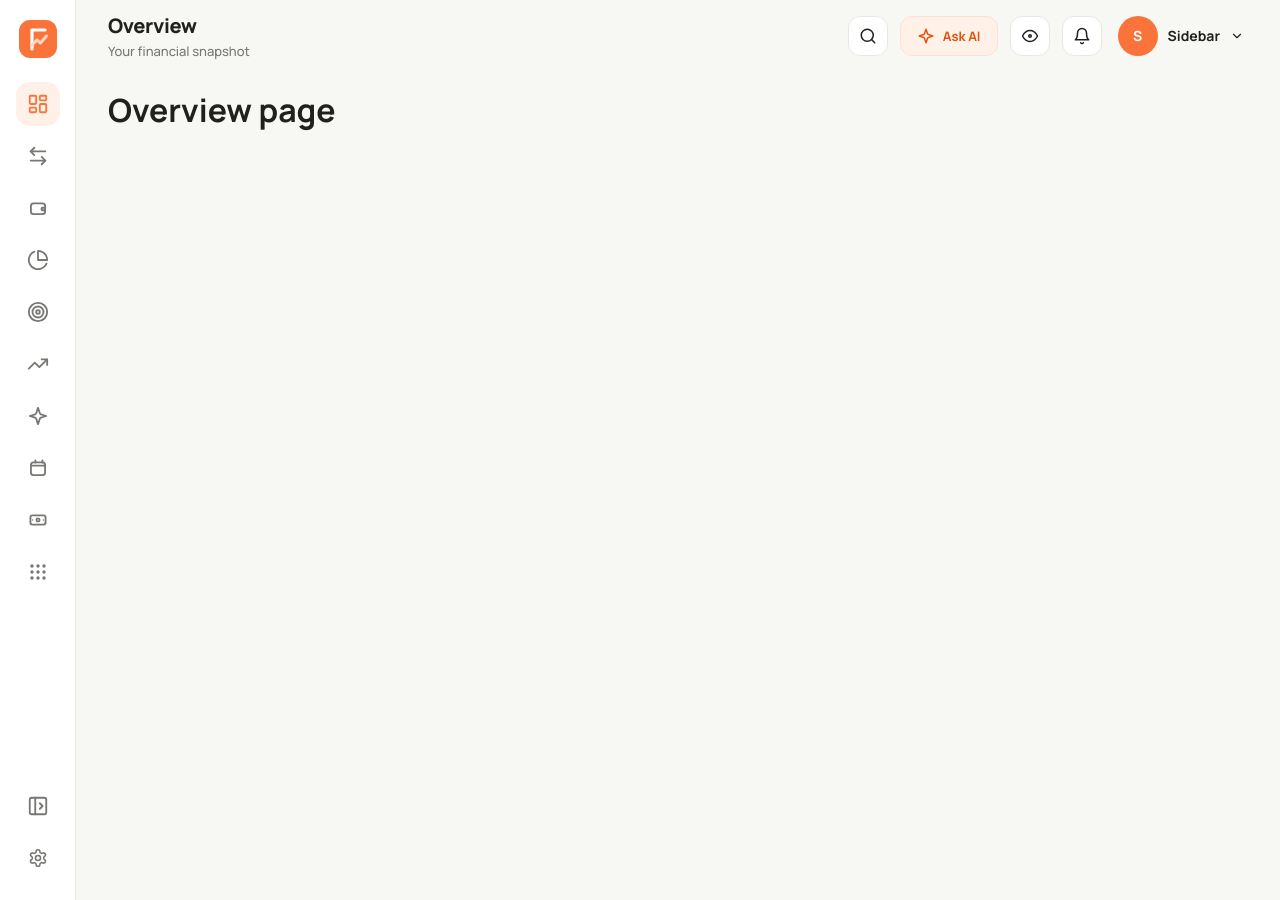
keeps working if storage access is blocked
Click the button named "Expand sidebar".
click(38, 806)  # box [16, 784, 60, 828]
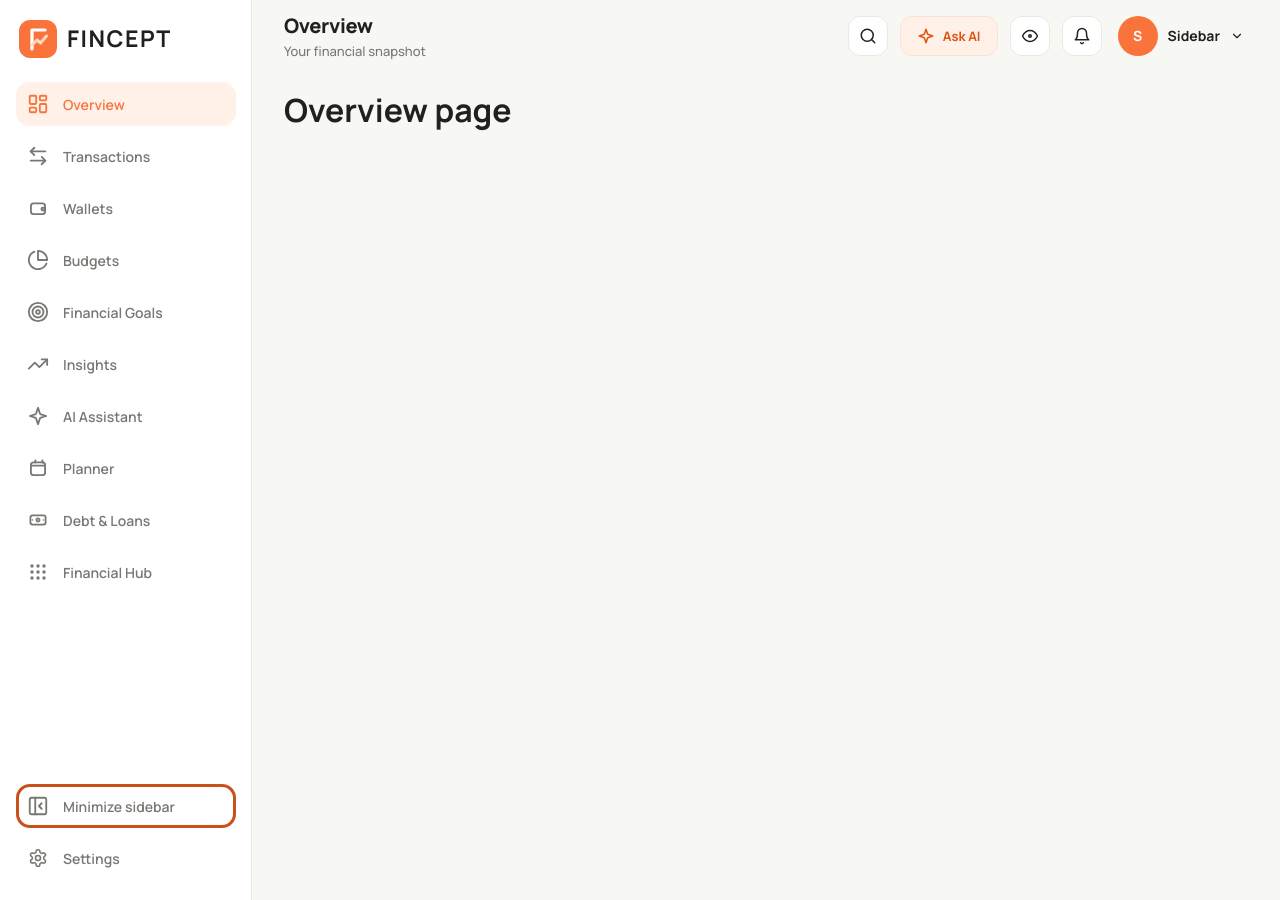
Expected: the button "Minimize sidebar" is shown, [16, 784, 236, 828]
Click the link "Wallets".
click(70, 208)  # box [27, 197, 113, 219]
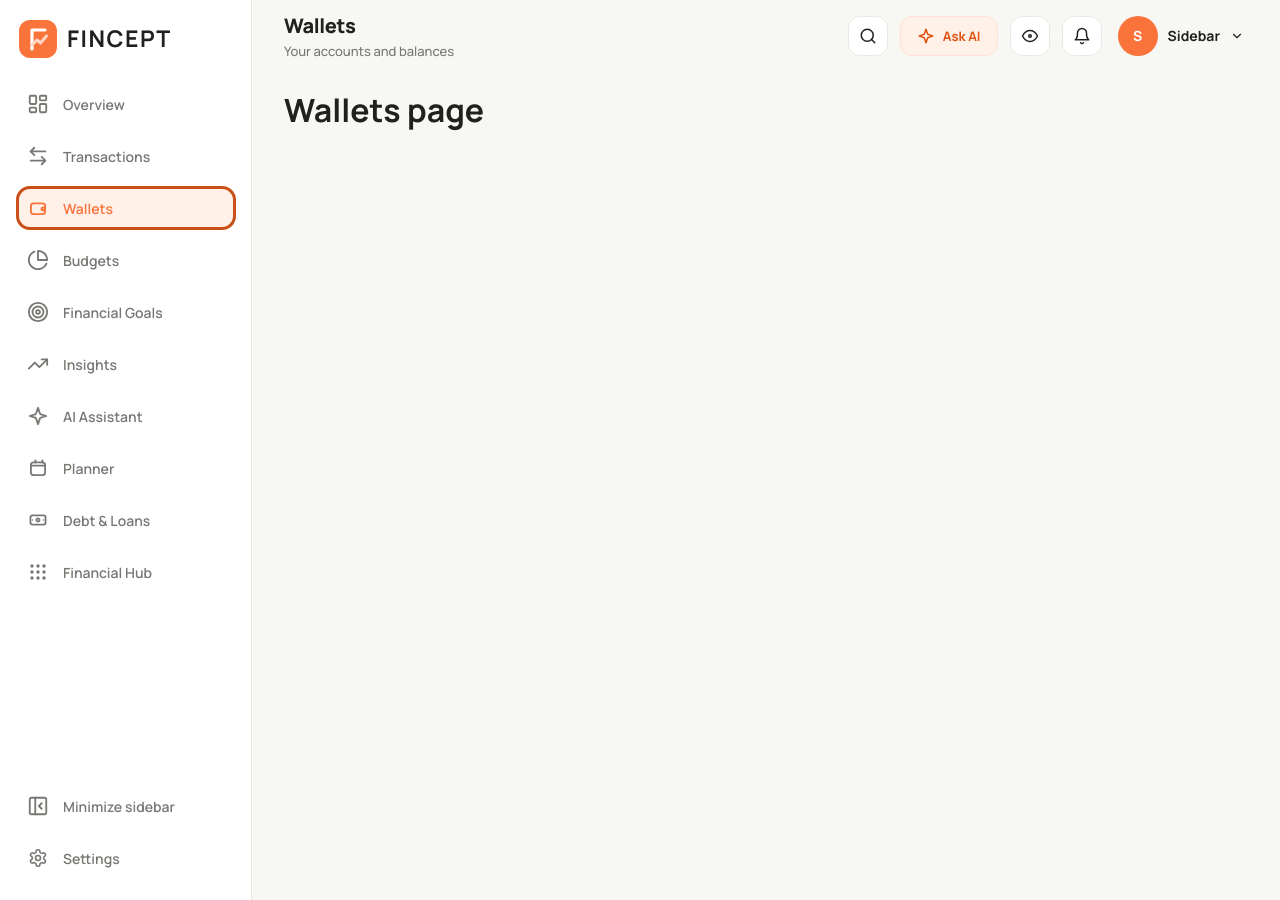
Expected: the heading "Wallets page" is shown, [284, 88, 484, 132]
